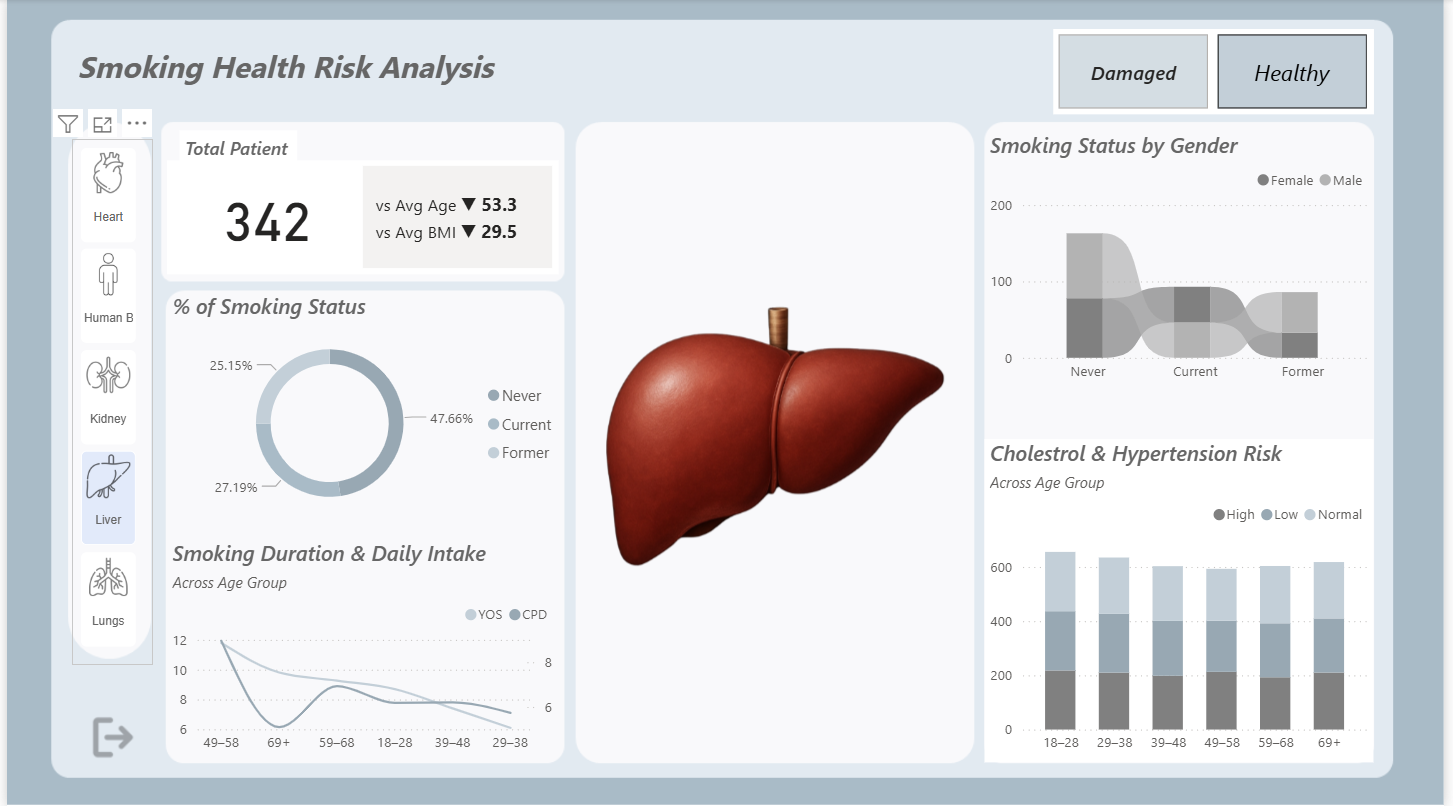

The dashboard page shown, as its layout file describes it:
{"tool":"powerbi","page":{"name":"Page 1","canvas":[1280,720],"ordinal":0},"visuals":[{"type":"cardVisual","fields":{"Data":["CountNonNull(health_dataset.Patient_ID)"]},"box":[142.4,143.6,348.7,101.3],"z":0},{"type":"textbox","box":[153.2,117,105,37.4],"z":1000},{"type":"advancedSlicerVisual","fields":{"Values":["condition.Organ_Condition"]},"box":[931.4,26.5,285.9,76],"z":2000},{"type":"ChicletSlicer1448559807354","fields":{"Category":["Organs.Organ"],"Image":["Organs.Icon_URL"]},"box":[57.9,124.3,72.4,469.3],"z":3000},{"type":"simpleImageEBC4593F96F1425FB3D84C5BF02B5075","fields":{"imageURL":["Image Dataset.Image URL"]},"box":[520,102.5,330.6,577.9],"z":4000},{"type":"donutChart","title":"% of Smoking Status","fields":{"Category":["health_dataset.Smoking_Status"],"Y":["CountNonNull(health_dataset.Smoking_Status)"]},"box":[142.4,260.6,357.1,209.9],"z":5000},{"type":"lineChart","title":"Smoking Duration & Daily Intake","fields":{"Category":["health_dataset.Age Group"],"Y":["Avg(health_dataset.Years_of_Smoking)"],"Y2":["Avg(health_dataset.Cigarettes_Per_Day)"]},"box":[142.4,481.4,348.7,199.1],"z":6000},{"type":"ribbonChart","title":"Smoking Status by Gender","fields":{"Category":["health_dataset.Smoking_Status"],"Y":["CountNonNull(health_dataset.Patient_ID)"],"Series":["health_dataset.Gender"]},"box":[871.1,117,346.2,232.8],"z":7000},{"type":"columnChart","title":"Cholestrol & Hypertension Risk","fields":{"Category":["health_dataset.Age Group"],"Y":["Avg(health_dataset.Cholesterol_Level)"],"Series":["health_dataset.BP_Risk"]},"box":[871.1,392.1,346.2,288.3],"z":8000},{"type":"textbox","box":[57.9,36.2,382.4,53.1],"z":9000}]}

Visuals, with their boxes in screenshot pixels (x1, y1, x2, y2), scaled from the page's 1280x720 canvas onto the 1453x806 screenshot:
cardVisual - CountNonNull(health_dataset.Patient_ID): {"x1": 162, "y1": 161, "x2": 557, "y2": 274}
textbox: {"x1": 174, "y1": 131, "x2": 293, "y2": 173}
advancedSlicerVisual - condition.Organ_Condition: {"x1": 1057, "y1": 30, "x2": 1382, "y2": 115}
ChicletSlicer1448559807354 - Organs.Organ x Organs.Icon_URL: {"x1": 66, "y1": 139, "x2": 148, "y2": 665}
simpleImageEBC4593F96F1425FB3D84C5BF02B5075 - Image Dataset.Image URL: {"x1": 590, "y1": 115, "x2": 966, "y2": 762}
"% of Smoking Status" donutChart: {"x1": 162, "y1": 292, "x2": 567, "y2": 527}
"Smoking Duration & Daily Intake" lineChart: {"x1": 162, "y1": 539, "x2": 557, "y2": 762}
"Smoking Status by Gender" ribbonChart: {"x1": 989, "y1": 131, "x2": 1382, "y2": 392}
"Cholestrol & Hypertension Risk" columnChart: {"x1": 989, "y1": 439, "x2": 1382, "y2": 762}
textbox: {"x1": 66, "y1": 41, "x2": 500, "y2": 100}
